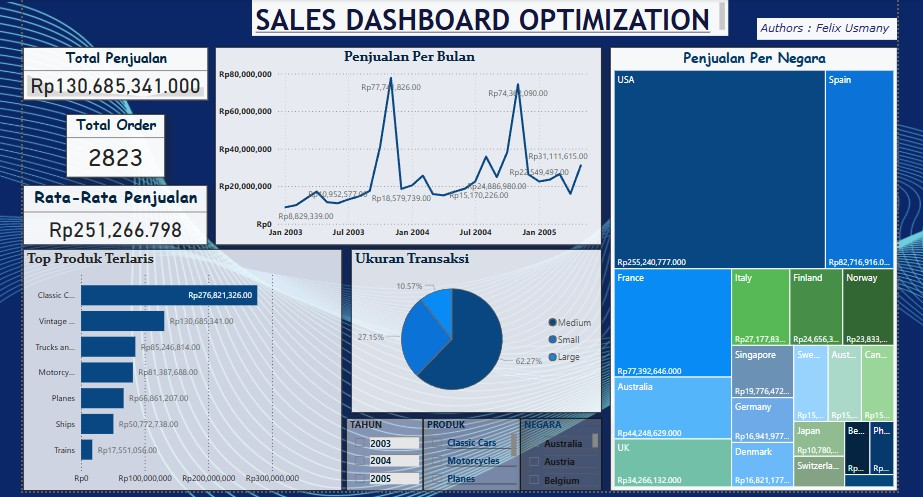

The dashboard page shown, as its layout file describes it:
{"tool":"powerbi","page":{"name":"Page 2","canvas":[1280,720],"ordinal":0},"visuals":[{"type":"textbox","box":[335.1,0,696.6,54.1],"z":0},{"type":"kpi","title":"Total Penjualan","fields":{"Indicator":["Sum(Sales_Data___sales_data.SALES)"],"TrendLine":["Sales_Data___sales_data.PRODUCTLINE"]},"box":[0,70.2,270.7,77.6],"z":1000},{"type":"card","title":"Total Order","fields":{"Values":["CountNonNull(Sales_Data___sales_data.ORDERNUMBER)"]},"box":[62.7,168.7,144.8,92.5],"z":2000},{"type":"card","title":"Rata-Rata Penjualan","fields":{"Values":["Avg(Sales_Data___sales_data.SALES)"]},"box":[0,271.6,270.1,88.1],"z":3000},{"type":"lineChart","title":"Penjualan Per Bulan","fields":{"Category":["Sales_Data___sales_data.ORDERDATE.Variation.Date Hierarchy.Year","Sales_Data___sales_data.ORDERDATE.Variation.Date Hierarchy.Month"],"Y":["Sum(Sales_Data___sales_data.SALES)"]},"box":[281,70.2,566.3,289.8],"z":4000},{"type":"barChart","title":"Top Produk Terlaris","fields":{"Category":["Sales_Data___sales_data.PRODUCTLINE"],"Y":["Sum(Sales_Data___sales_data.SALES)"]},"box":[0,365.9,466.8,354.1],"z":5000},{"type":"pieChart","title":"Ukuran Transaksi","fields":{"Category":["Sales_Data___sales_data.DEALSIZE"],"Y":["Sum(Sales_Data___sales_data.SALES)"]},"box":[480,365.9,367.3,240],"z":6000},{"type":"slicer","title":"TAHUN","fields":{"Values":["Sales_Data___sales_data.YEAR_ID"]},"box":[472.7,613.2,112.7,106.8],"z":7000},{"type":"treemap","title":"Penjualan Per Negara","fields":{"Group":["Sales_Data___sales_data.COUNTRY"],"Values":["Sum(Sales_Data___sales_data.SALES)"]},"box":[859,70.2,421.5,649.8],"z":8000},{"type":"slicer","title":"PRODUK","fields":{"Values":["Sales_Data___sales_data.PRODUCTLINE"]},"box":[585.4,613.2,143.4,106.8],"z":9000},{"type":"slicer","title":"NEGARA","fields":{"Values":["Sales_Data___sales_data.COUNTRY"]},"box":[727.3,613.2,120,106.8],"z":10000},{"type":"textbox","box":[1074.1,27.8,206.3,32.2],"z":11000}]}

Visuals, with their boxes in screenshot pixels (x1, y1, x2, y2):
textbox: {"x1": 250, "y1": 0, "x2": 725, "y2": 34}
"Total Penjualan" kpi: {"x1": 22, "y1": 45, "x2": 206, "y2": 98}
"Total Order" card: {"x1": 64, "y1": 113, "x2": 163, "y2": 176}
"Rata-Rata Penjualan" card: {"x1": 22, "y1": 183, "x2": 206, "y2": 243}
"Penjualan Per Bulan" lineChart: {"x1": 213, "y1": 45, "x2": 599, "y2": 243}
"Top Produk Terlaris" barChart: {"x1": 22, "y1": 247, "x2": 340, "y2": 488}
"Ukuran Transaksi" pieChart: {"x1": 349, "y1": 247, "x2": 599, "y2": 411}
"TAHUN" slicer: {"x1": 344, "y1": 415, "x2": 421, "y2": 488}
"Penjualan Per Negara" treemap: {"x1": 607, "y1": 45, "x2": 894, "y2": 488}
"PRODUK" slicer: {"x1": 421, "y1": 415, "x2": 518, "y2": 488}
"NEGARA" slicer: {"x1": 517, "y1": 415, "x2": 599, "y2": 488}
textbox: {"x1": 754, "y1": 17, "x2": 894, "y2": 38}
